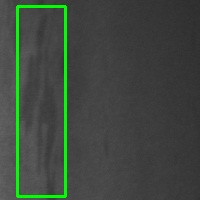inclusion: (17, 6, 65, 196)
